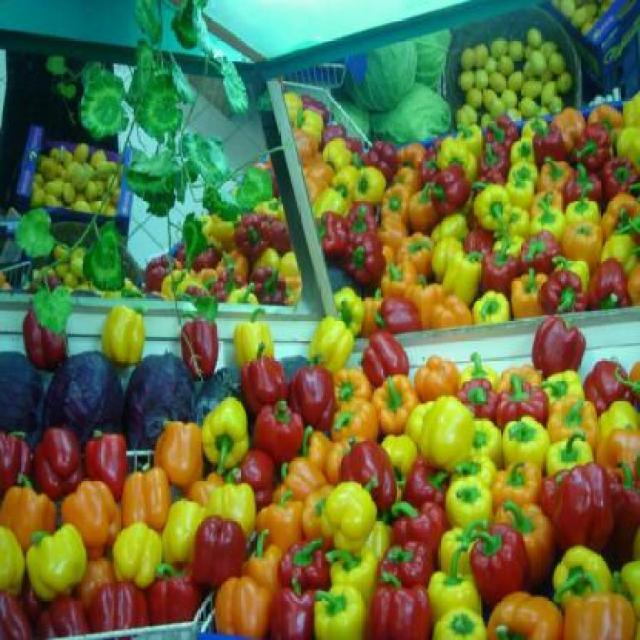Bell pepper: (1, 93, 639, 639)
